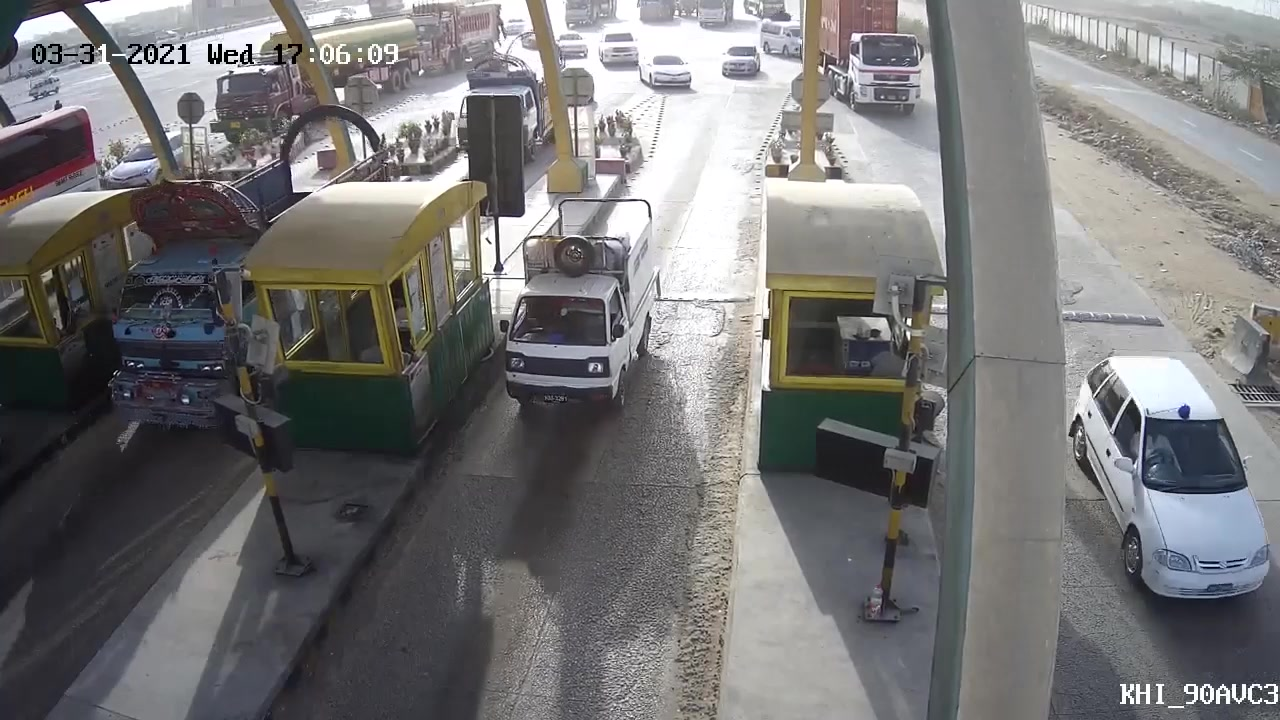F1: (497, 190, 669, 425)
